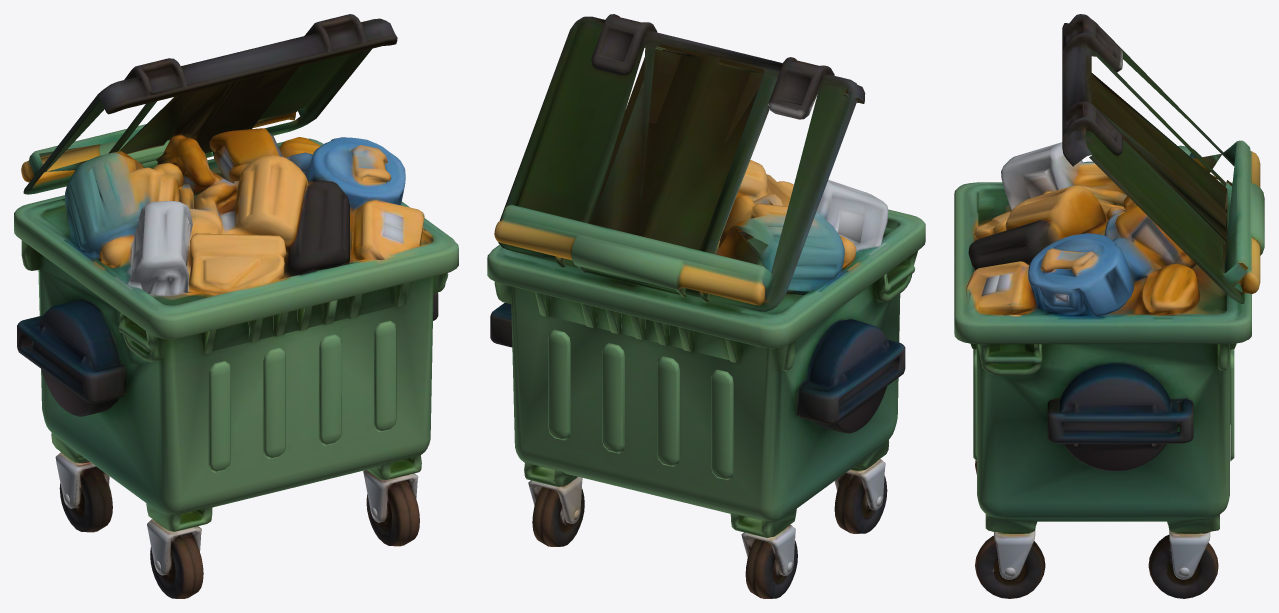
File: dumpster_b076662a_v1.glb
The picture shows the model from 3 angles, left to right: view 1: azimuth 30°, elevation 25°; view 2: azimuth 150°, elevation 25°; view 3: azimuth 270°, elevation 25°; orthographic projection. The views are drawn at different scales.
Parts seen in each view (by area): view 1: material; view 2: material; view 3: material.
Part boxes in pixels (box(x1,y1,x2,y2)): material: box(14, 14, 458, 598); material: box(487, 14, 925, 598); material: box(954, 14, 1264, 598).
Size of the model in its own units: 1.4 by 1.9 by 1.12.
Materials: 1 (1 with a texture image).
